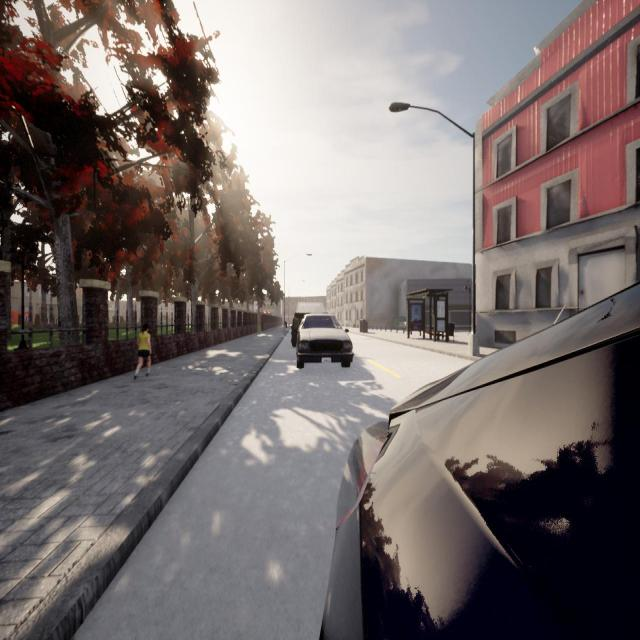Pedestrian: (134, 323, 151, 378)
Vehicle: (322, 280, 640, 640), (296, 313, 354, 369), (291, 302, 328, 348)
